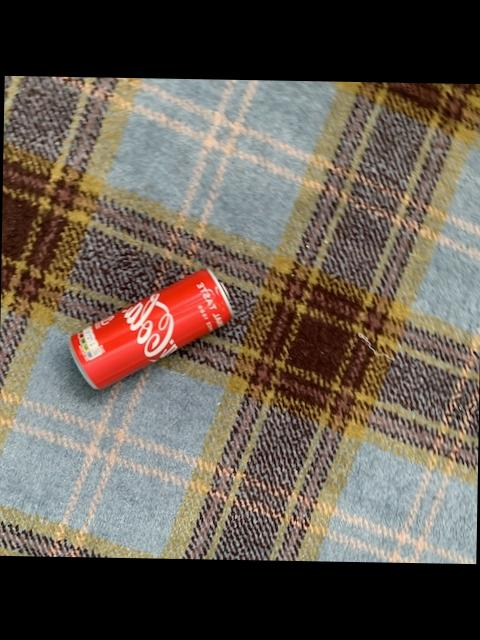metal: (68, 268, 228, 388)
